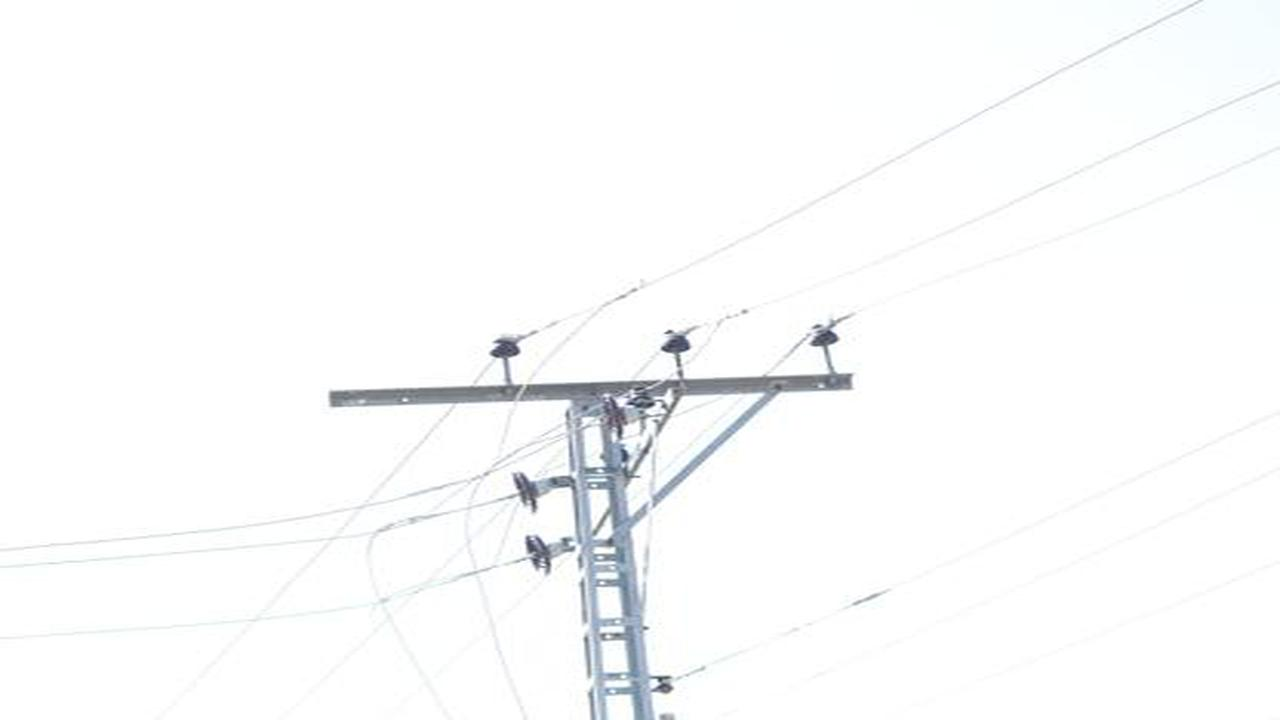insulator_disc: (511, 465, 565, 511), (524, 532, 572, 574), (600, 399, 633, 443)
insulator_pin: (804, 321, 844, 355), (486, 329, 524, 362), (658, 326, 696, 359), (629, 383, 663, 409)
